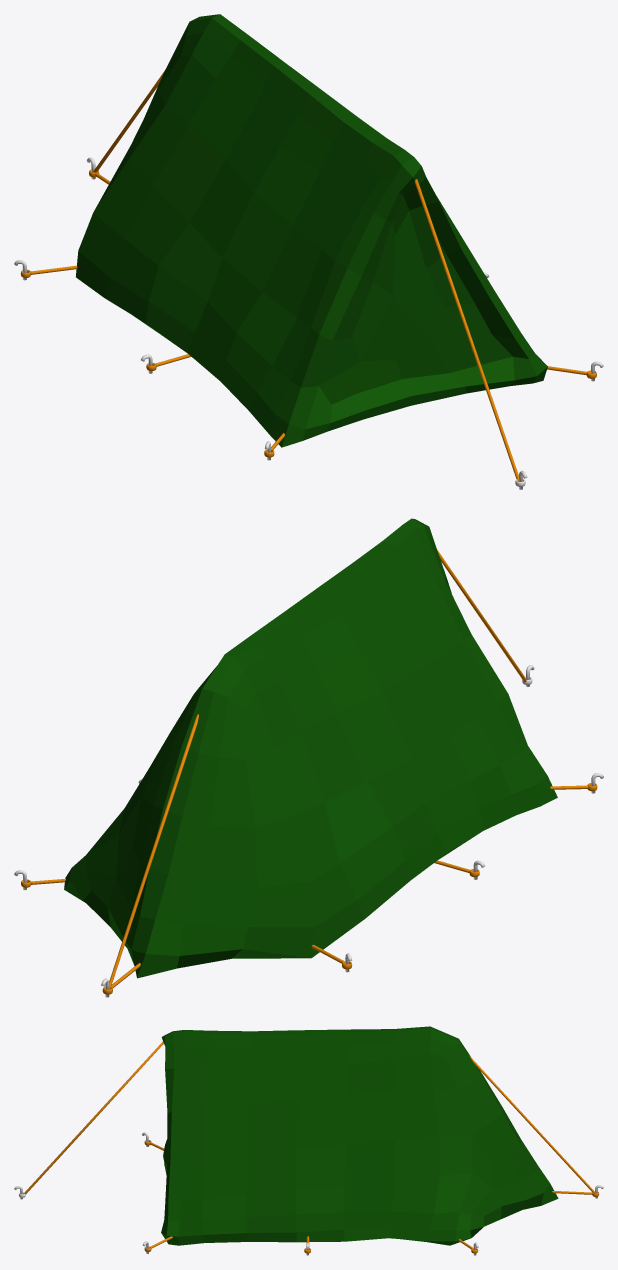
Rendered from tiendaCampamento.fbx.
3 renders of one model, top to bottom at view 1: azimuth 30°, elevation 25°; view 2: azimuth 150°, elevation 25°; view 3: azimuth 270°, elevation 25°, orthographic. The views are drawn at different scales.
Visible parts, largest first — view 1: Retopo_Cube, Cylinder, Cylinder.003; view 2: Retopo_Cube, Cylinder.003, Cylinder; view 3: Retopo_Cube, Cylinder.003, Cylinder.
Boxes of the visible parts, <box> form: Retopo_Cube: <box>76,14,547,447</box>; Cylinder: <box>414,179,518,481</box>; Cylinder.003: <box>28,70,590,451</box>; Retopo_Cube: <box>64,518,557,978</box>; Cylinder.003: <box>30,714,588,989</box>; Cylinder: <box>437,549,527,685</box>; Retopo_Cube: <box>161,1026,558,1245</box>; Cylinder.003: <box>149,1055,595,1249</box>; Cylinder: <box>23,1041,163,1194</box>.
Size of the model in its own units: 8750 by 6217 by 18988.
